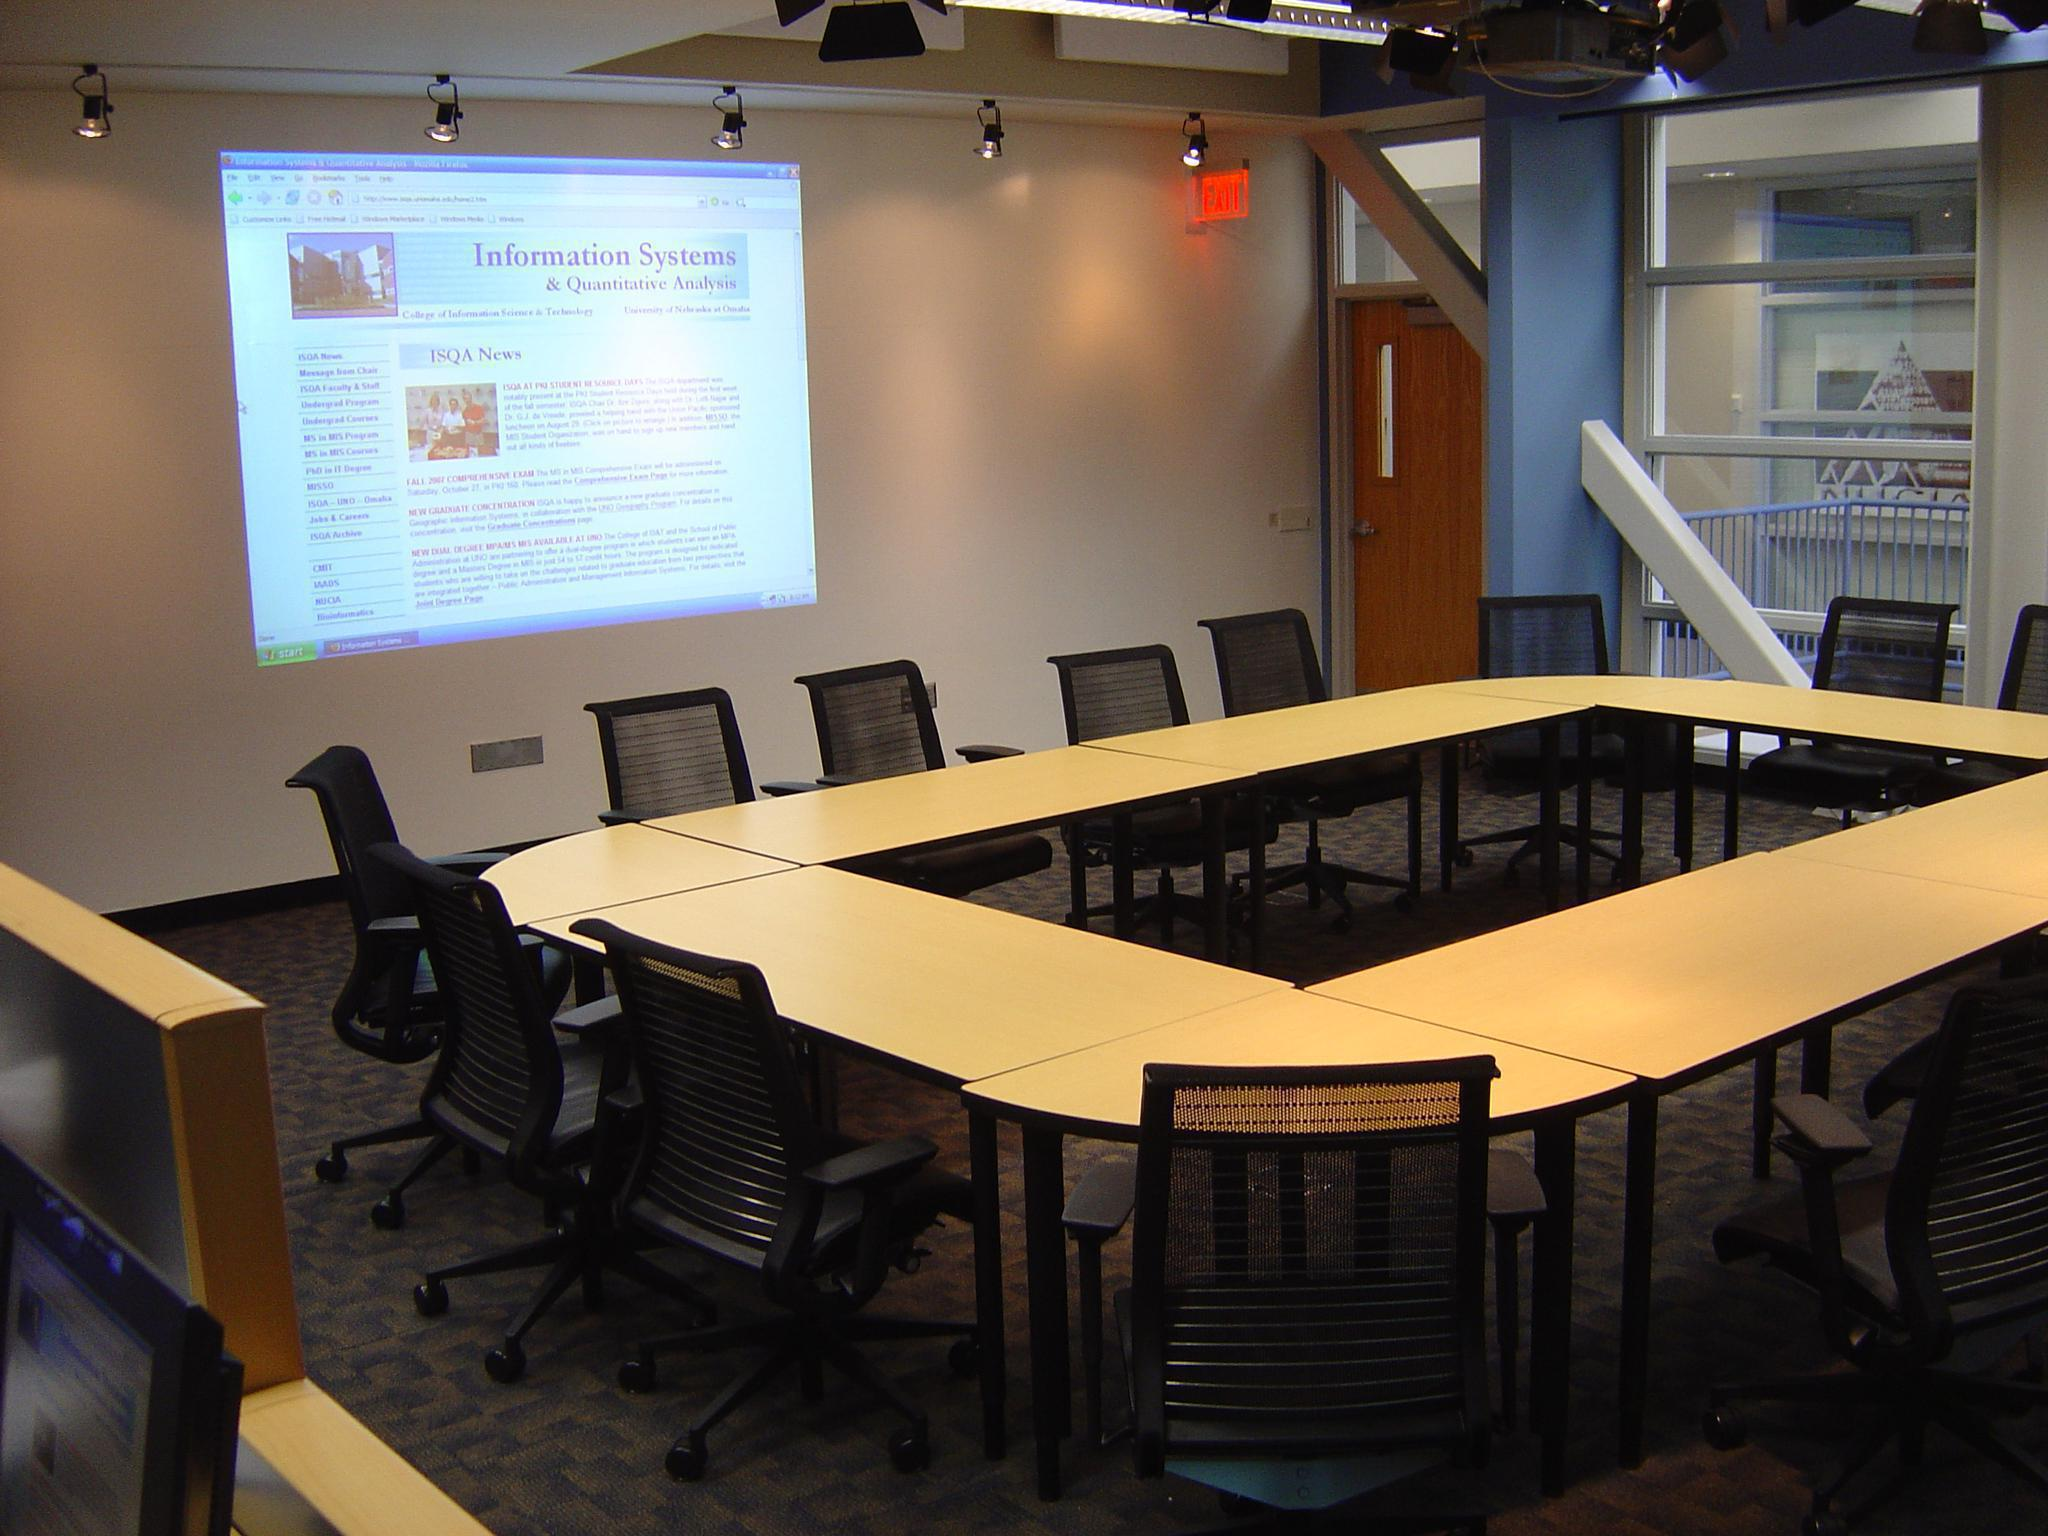Puerta: (1340, 287, 1477, 678)
Ventana: (1643, 118, 1980, 687)
